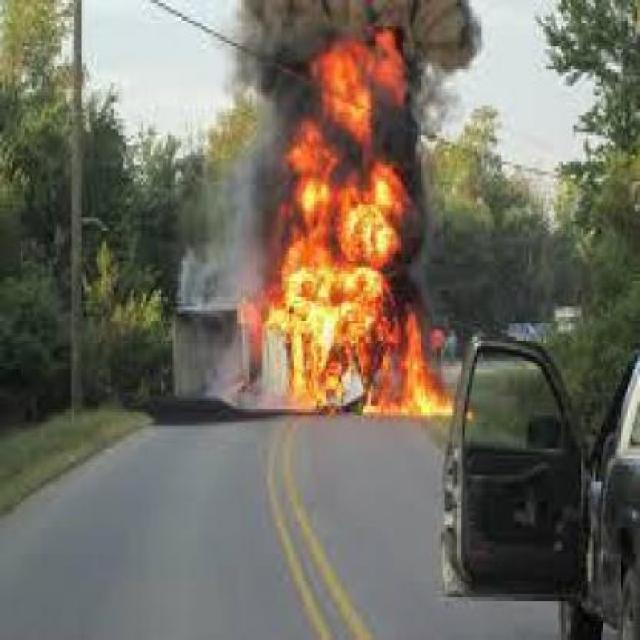Fire: (264, 27, 458, 418)
Smoke: (235, 0, 482, 49), (214, 130, 266, 272)
